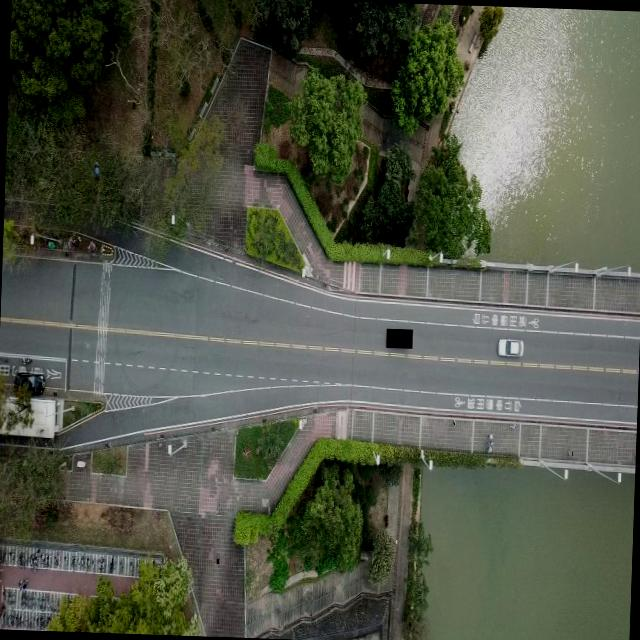car: (12, 372, 44, 396), (494, 335, 523, 359)
